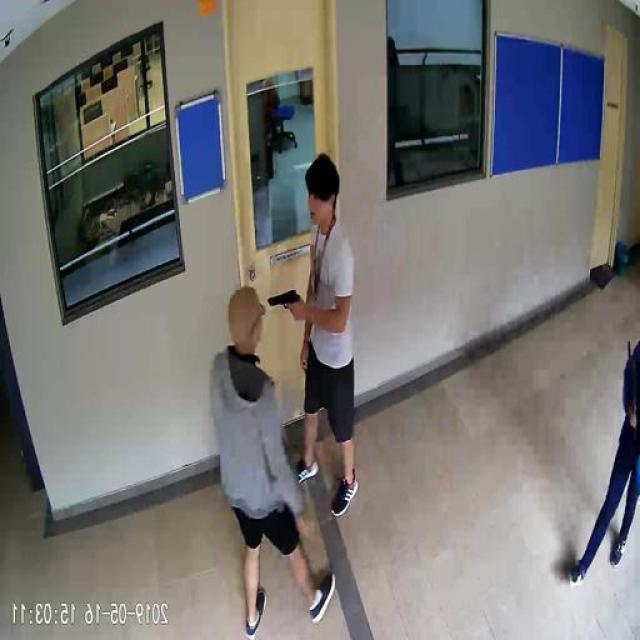Gun: (268, 285, 302, 321)
